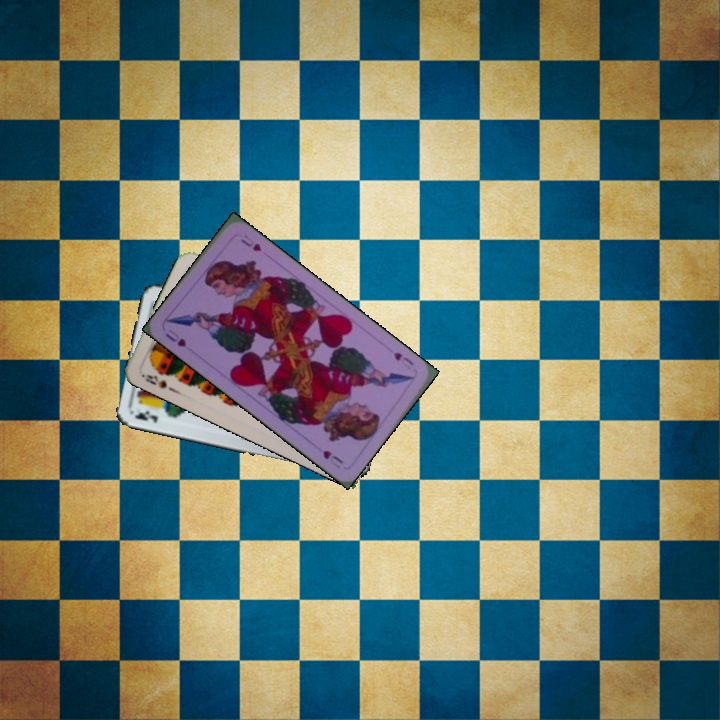EK: (131, 407, 160, 425)
HU: (161, 325, 189, 349), (390, 348, 416, 368)
S8: (137, 370, 169, 391)
